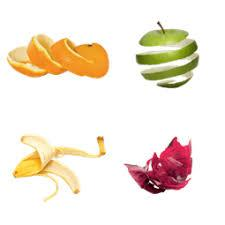Organic: (1, 20, 220, 213)
